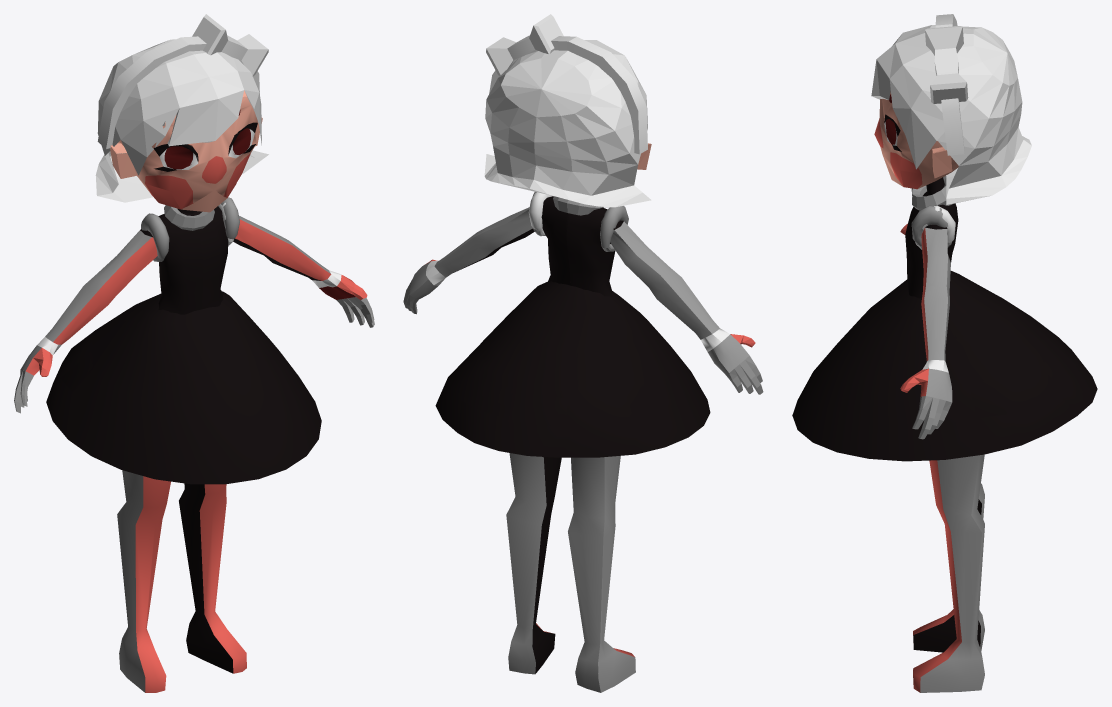
Rendered from penelopeDraft1.FBX.
3 views of the same model, side by side, from view 1: azimuth 30°, elevation 25°; view 2: azimuth 150°, elevation 25°; view 3: azimuth 270°, elevation 25° (orthographic). The views are drawn at different scales.
Parts seen in each view (by area): view 1: Object004, Hair, Headband, Bow; view 2: Object004, Hair, Headband, Bow; view 3: Object004, Hair, Bow, Headband.
Part boxes in pixels (x1=…): Object004: x1=14, y1=90, x2=374, y2=692; Hair: x1=95, y1=39, x2=268, y2=202; Headband: x1=97, y1=36, x2=259, y2=148; Bow: x1=192, y1=14, x2=268, y2=76; Object004: x1=403, y1=143, x2=763, y2=692; Hair: x1=484, y1=40, x2=651, y2=207; Headband: x1=489, y1=36, x2=647, y2=154; Bow: x1=486, y1=14, x2=563, y2=75; Object004: x1=792, y1=92, x2=1097, y2=692; Hair: x1=871, y1=25, x2=1031, y2=204; Bow: x1=925, y1=26, x2=968, y2=103; Headband: x1=935, y1=14, x2=964, y2=155.
Size of the model in its own units: 20778 by 35696 by 15043.
